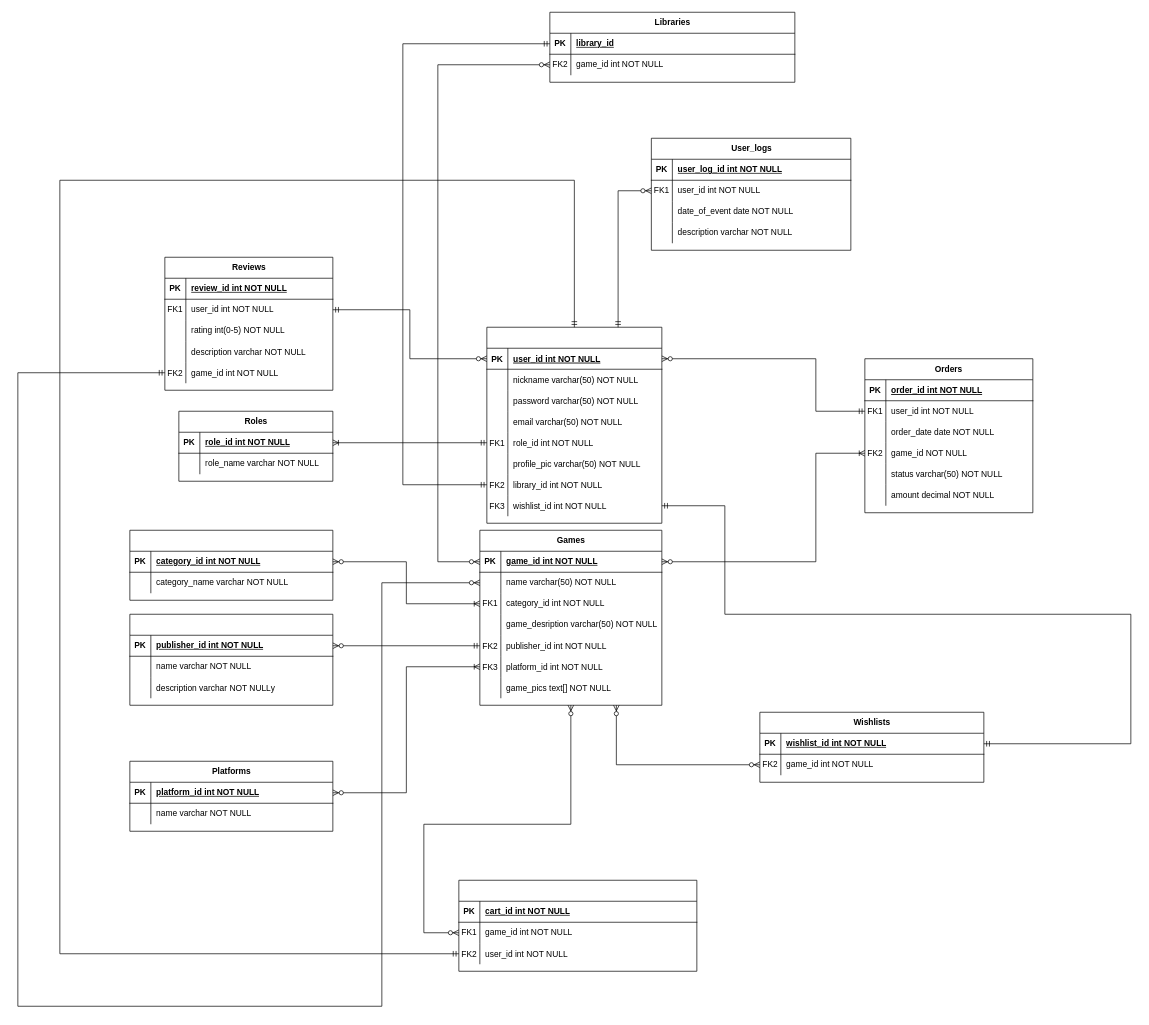
The diagram is 1149 pixels wide and 1025 high, and some of its shapes have lost their labels. Each missing label, with the box of its shape:
Carts: (458, 880, 697, 971)
Categories: (129, 530, 333, 600)
Publshers: (129, 614, 333, 705)
Users: (486, 327, 662, 523)
